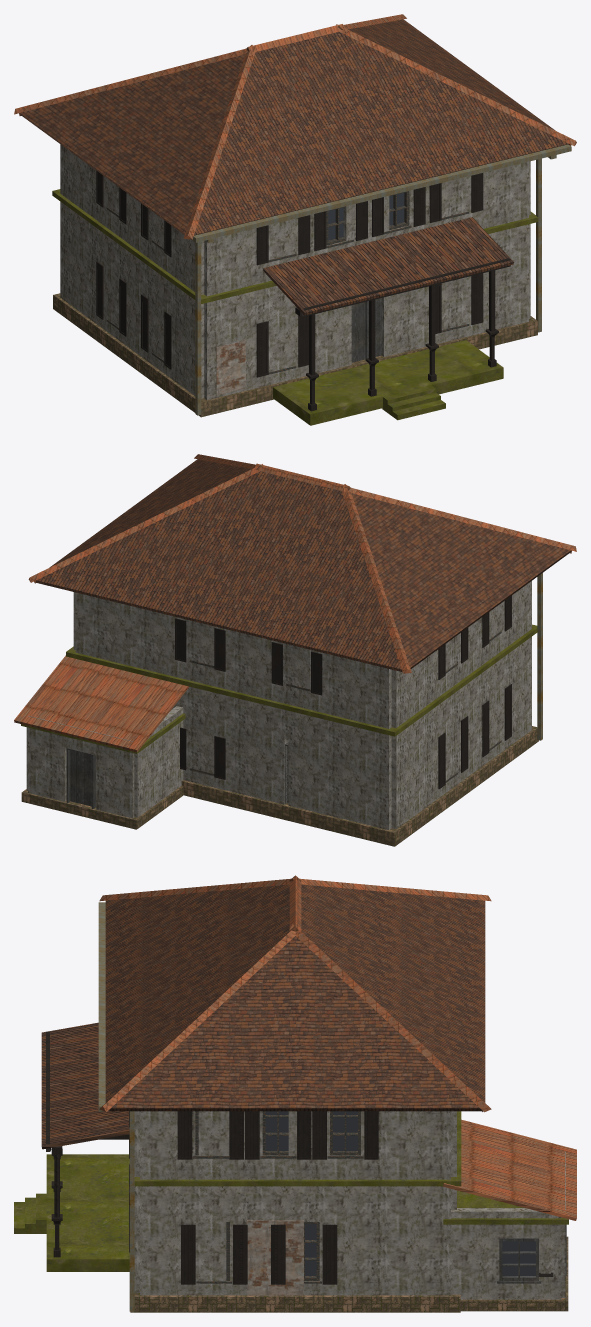
The model's file is RumahAtmaja_House.glb.
3 views of the same model, one above another, from view 1: azimuth 30°, elevation 25°; view 2: azimuth 150°, elevation 25°; view 3: azimuth 270°, elevation 25° (orthographic). The views are drawn at different scales.
Parts seen in each view (by area): view 1: ROOF_main_front, ROOF_main_left, ROOF_veranda, VERANDA_platform, WALL_FRONT_pier_0, WALL_FRONT_pier_7, WALL_WEST_pier_4, PLINTH, WALL_WEST_pier_0, ROOF_main_right, WALL_WEST_pier_2, GUTTER_front (+31 smaller); view 2: ROOF_main_back, ROOF_main_left, WALL_BACK_pier_0, ROOF_annex, WALL_BACK_pier_2, WALL_BACK_pier_4, WALL_WEST_pier_4, PLINTH, WALL_WEST_pier_0, ROOF_main_right, WALL_WEST_pier_2, BAND_mid (+24 smaller); view 3: ROOF_main_right, ROOF_main_front, ROOF_main_back, WALL_EAST_pier_5, VERANDA_platform, ROOF_annex, WALL_EAST_pier_0, ROOF_veranda, PLINTH, ANNEX_EAST_pier_0, WALL_EAST_sill_0, WALL_EAST_sill_4 (+35 smaller).
Boxes of the visible parts, x1,y1,x2,y2 form: ROOF_main_front: (194,32,569,235); ROOF_main_left: (20,54,245,234); ROOF_veranda: (263,217,513,315); VERANDA_platform: (273,340,503,425); WALL_FRONT_pier_0: (204,228,268,399); WALL_FRONT_pier_7: (467,161,528,336); WALL_WEST_pier_4: (60,144,108,332); PLINTH: (53,293,537,417); WALL_WEST_pier_0: (167,226,204,398); ROOF_main_right: (348,19,571,145); WALL_WEST_pier_2: (122,193,152,364); GUTTER_front: (192,144,571,242); ROOF_main_back: (35,471,402,671); ROOF_main_left: (351,493,571,668); WALL_BACK_pier_0: (312,650,391,829); ROOF_annex: (14,655,188,752); WALL_BACK_pier_2: (215,626,288,804); WALL_BACK_pier_4: (75,592,191,781); WALL_WEST_pier_4: (391,649,442,829); PLINTH: (181,726,538,846); WALL_WEST_pier_0: (500,581,531,752); ROOF_main_right: (34,459,251,583); WALL_WEST_pier_2: (456,617,486,784); BAND_mid: (66,624,537,736); ROOF_main_right: (109,936,481,1111); ROOF_main_front: (105,884,289,1111); ROOF_main_back: (301,884,485,1111); WALL_EAST_pier_5: (361,1111,450,1295); VERANDA_platform: (46,1154,129,1271); ROOF_annex: (443,1119,576,1220); WALL_EAST_pier_0: (140,1111,195,1295); ROOF_veranda: (41,1022,129,1149); PLINTH: (130,1293,460,1312); ANNEX_EAST_pier_0: (451,1208,499,1299); WALL_EAST_sill_0: (195,1155,226,1295); WALL_EAST_sill_4: (330,1155,360,1295).
Bounding box in the file's own units: 14.67 × 10.22 × 16.3.
Materials: 11 (10 with a texture image).
